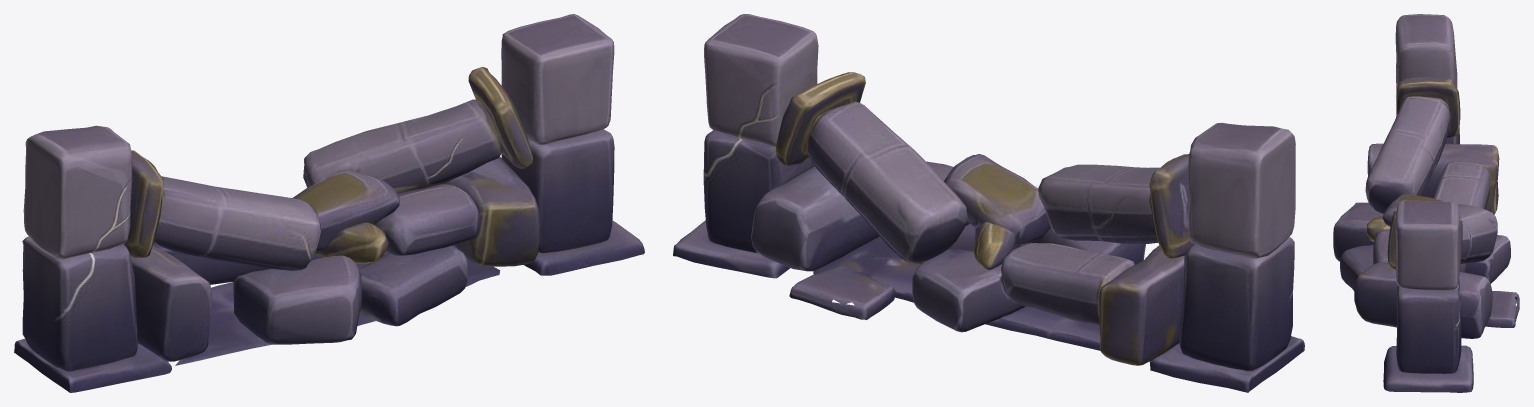
Rendered from ce_entulho.glb.
3 views of the same model, side by side, from view 1: azimuth 30°, elevation 25°; view 2: azimuth 150°, elevation 25°; view 3: azimuth 270°, elevation 25° (orthographic). The views are drawn at different scales.
Visible parts, largest first — view 1: Mesh_0; view 2: Mesh_0; view 3: Mesh_0.
Part boxes in pixels (box(x1,y1,x2,y2)): Mesh_0: box(14, 14, 644, 392); Mesh_0: box(673, 14, 1304, 392); Mesh_0: box(1333, 14, 1519, 392).
Bounding box in the file's own units: 0.5552 × 0.2146 × 0.21.
1 material, 1 textured.
